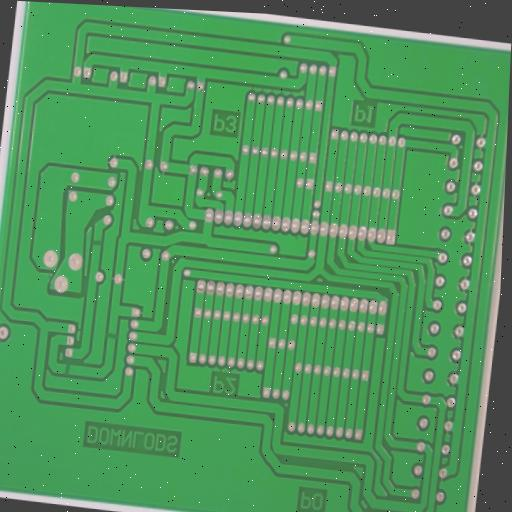open_circuit: (61, 361, 75, 378), (91, 234, 103, 250), (105, 329, 119, 342)
